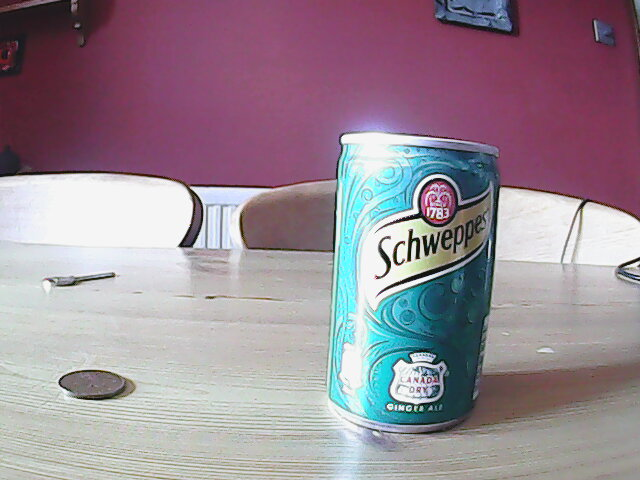Can: (322, 127, 504, 438)
Coin: (55, 366, 128, 401)
Key: (41, 270, 119, 291)
